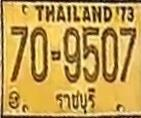0: (30, 26, 49, 85), (100, 26, 118, 82)
5: (82, 26, 101, 82)
7: (119, 26, 139, 84), (10, 25, 28, 80)
9: (62, 27, 80, 82)
RBR: (50, 86, 100, 115)
